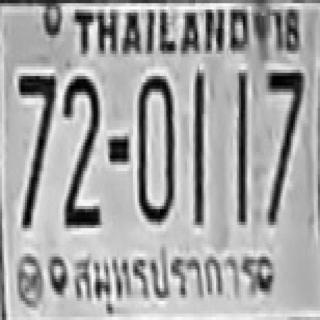N00: (136, 74, 174, 220)
N01: (191, 70, 204, 222), (235, 70, 247, 222)
N02: (62, 73, 100, 222), (62, 73, 98, 209)
N07: (16, 73, 54, 225), (265, 70, 302, 222)
P57: (67, 243, 259, 308)
